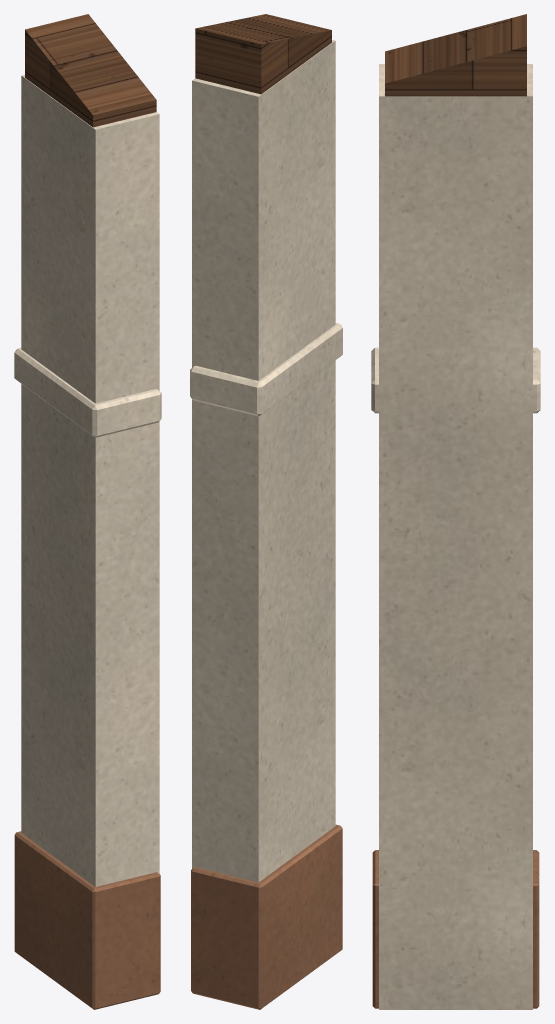
The model's file is arcade_end_l.glb.
3 views of the same model, side by side, from view 1: azimuth 30°, elevation 25°; view 2: azimuth 150°, elevation 25°; view 3: azimuth 270°, elevation 25° (orthographic). The views are drawn at different scales.
Parts seen in each view (by area): view 1: arcade_end_l_render, arcade_end_l_plinth, arcade_end_l_wood; view 2: arcade_end_l_render, arcade_end_l_plinth, arcade_end_l_wood; view 3: arcade_end_l_render, arcade_end_l_wood, arcade_end_l_plinth.
Part boxes in pixels (x1,y1,x2,y2): arcade_end_l_render: [14, 75, 161, 886]; arcade_end_l_plinth: [14, 831, 160, 1009]; arcade_end_l_wood: [25, 14, 156, 127]; arcade_end_l_render: [190, 40, 342, 882]; arcade_end_l_plinth: [191, 824, 342, 1009]; arcade_end_l_wood: [195, 14, 331, 94]; arcade_end_l_render: [371, 64, 540, 1009]; arcade_end_l_wood: [385, 14, 526, 96]; arcade_end_l_plinth: [372, 850, 539, 1008].
Bounding box in the file's own units: 0.27 × 3.45 × 0.55.
3 materials, 3 textured.
